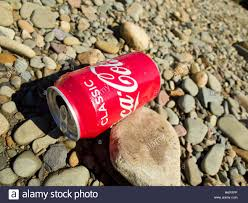Coca-Cola: (92, 63, 136, 113)
